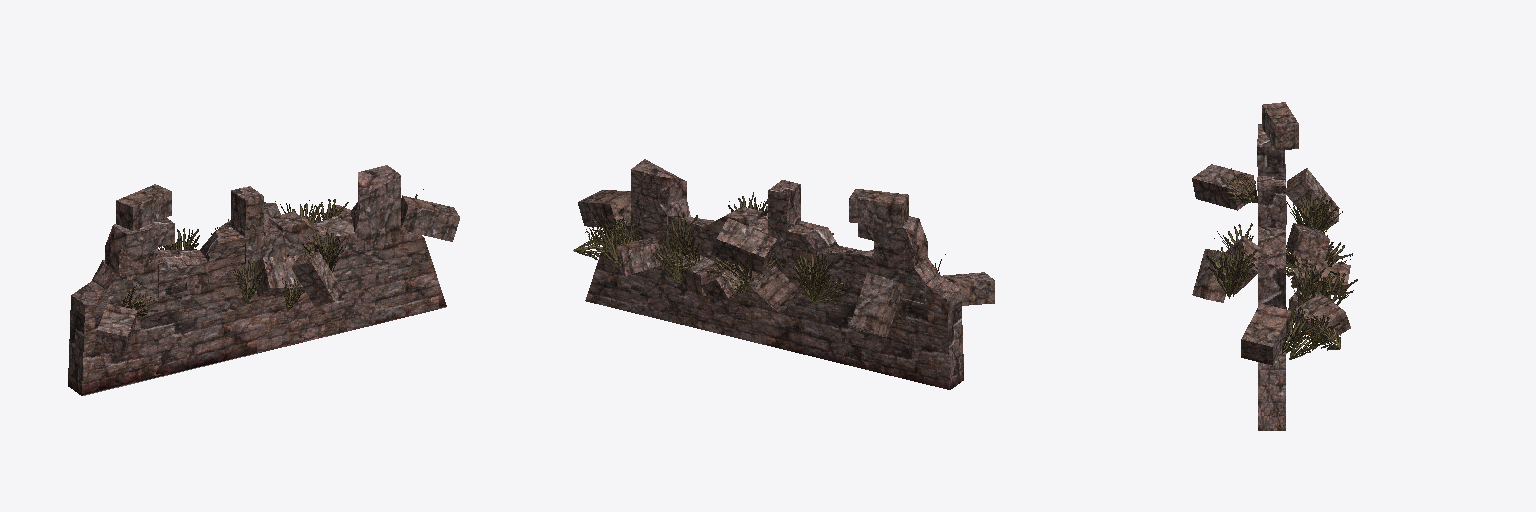
The picture shows the model from 3 angles: view 1: azimuth 30°, elevation 25°; view 2: azimuth 150°, elevation 25°; view 3: azimuth 270°, elevation 25°; orthographic projection.
Visible parts, largest first — view 1: Node 0, Node 9, Node 7, Node 6, Node 8, Node 5, Node 4, Node 3; view 2: Node 0, Node 2, Node 9, Node 6, Node 7, Node 5, Node 3, Node 4, Node 1; view 3: Node 0, Node 4, Node 2, Node 8, Node 5, Node 6, Node 3, Node 1, Node 9.
Part boxes in pixels (left/top/right/bottom): Node 0: left=68, top=189, right=446, bottom=395; Node 9: left=93, top=217, right=174, bottom=305; Node 7: left=158, top=227, right=245, bottom=289; Node 6: left=351, top=165, right=400, bottom=249; Node 8: left=254, top=251, right=342, bottom=306; Node 5: left=231, top=186, right=285, bottom=279; Node 4: left=401, top=195, right=459, bottom=241; Node 3: left=116, top=184, right=171, bottom=230; Node 0: left=573, top=192, right=994, bottom=389; Node 2: left=701, top=218, right=801, bottom=313; Node 9: left=858, top=216, right=938, bottom=303; Node 6: left=631, top=159, right=690, bottom=243; Node 7: left=787, top=221, right=873, bottom=283; Node 5: left=749, top=180, right=800, bottom=273; Node 3: left=849, top=189, right=908, bottom=227; Node 4: left=578, top=190, right=630, bottom=227; Node 1: left=616, top=237, right=662, bottom=275; Node 0: left=1192, top=164, right=1357, bottom=430; Node 4: left=1241, top=303, right=1291, bottom=365; Node 2: left=1286, top=223, right=1350, bottom=295; Node 8: left=1192, top=236, right=1257, bottom=302; Node 5: left=1257, top=176, right=1285, bottom=230; Node 6: left=1258, top=251, right=1285, bottom=308; Node 3: left=1262, top=102, right=1298, bottom=150; Node 1: left=1293, top=293, right=1350, bottom=344; Node 9: left=1257, top=124, right=1284, bottom=175.
Bounding box in the file's own units: 8.93 × 3.82 × 3.51.
Materials: 11 (2 with a texture image).